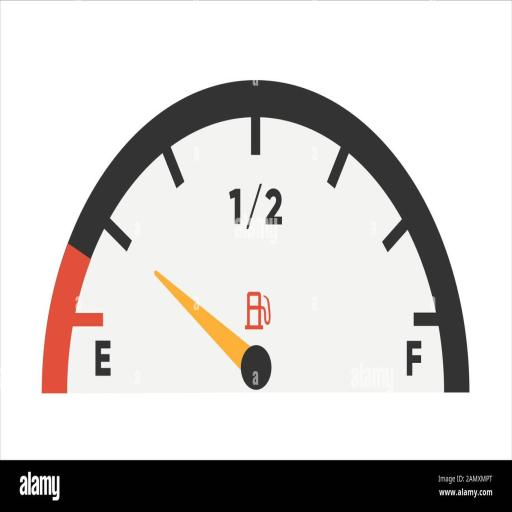empty: (92, 334, 114, 384)
fuel_icon: (241, 286, 274, 330)
full: (40, 78, 470, 396), (403, 335, 422, 379)
needle_center: (234, 338, 275, 393)
needle_tip: (151, 263, 180, 298)
